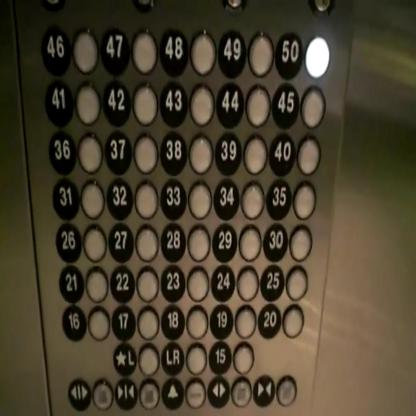15: (207, 338, 233, 377)
16: (60, 302, 86, 342)
17: (110, 302, 136, 342)
18: (159, 301, 186, 341)
19: (209, 301, 234, 340)
20: (257, 300, 282, 340)
21: (58, 263, 84, 303)
22: (108, 264, 136, 303)
23: (160, 262, 187, 302)
24: (209, 263, 236, 302)
25: (259, 263, 286, 302)
26: (54, 222, 82, 263)
27: (108, 222, 134, 263)
28: (160, 221, 186, 263)
29: (211, 222, 238, 263)
30: (262, 222, 289, 263)
31: (52, 175, 80, 220)
32: (106, 176, 134, 221)
33: (158, 177, 186, 222)
34: (212, 176, 240, 222)
35: (264, 176, 292, 222)
36: (49, 128, 77, 176)
37: (104, 128, 132, 176)
38: (159, 129, 188, 177)
39: (214, 130, 243, 178)
40: (269, 130, 297, 178)
41: (44, 78, 74, 128)
42: (101, 77, 131, 127)
43: (158, 79, 188, 128)
44: (215, 80, 245, 129)
45: (271, 80, 301, 129)
46: (40, 25, 72, 76)
47: (100, 25, 132, 76)
48: (158, 26, 190, 77)
49: (216, 27, 248, 78)
50: (274, 30, 306, 81)
LR: (159, 341, 184, 377)
alarm: (161, 375, 185, 413)
blur: (91, 377, 114, 411), (138, 377, 161, 411), (230, 375, 253, 408), (275, 374, 297, 408)
close: (114, 377, 138, 415), (253, 373, 276, 408)
empty: (70, 29, 100, 74), (130, 28, 158, 75), (131, 82, 159, 126), (132, 131, 160, 175), (247, 31, 273, 77), (75, 81, 101, 126), (190, 31, 216, 76), (304, 34, 330, 79), (134, 178, 160, 221), (77, 132, 103, 174), (246, 84, 270, 127), (301, 85, 325, 128), (296, 133, 320, 176), (80, 179, 105, 220), (292, 180, 317, 221), (189, 85, 214, 125), (82, 224, 107, 263), (134, 224, 159, 262), (135, 264, 160, 302), (187, 181, 212, 219), (85, 266, 109, 304), (87, 304, 111, 342), (187, 224, 211, 262), (189, 134, 213, 172), (282, 302, 306, 340), (244, 134, 268, 172), (241, 180, 265, 218), (238, 224, 262, 262), (289, 224, 312, 261), (286, 264, 309, 301), (136, 305, 160, 340), (186, 305, 208, 341), (187, 265, 209, 301), (236, 265, 258, 301), (234, 303, 256, 339), (232, 340, 255, 374), (137, 344, 159, 378), (185, 344, 207, 376)
open: (67, 376, 91, 413), (206, 375, 230, 410)
sL: (112, 342, 137, 378)
text_blur: (184, 376, 206, 410)
